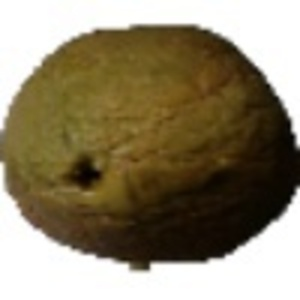mamão: (3, 19, 292, 263)
